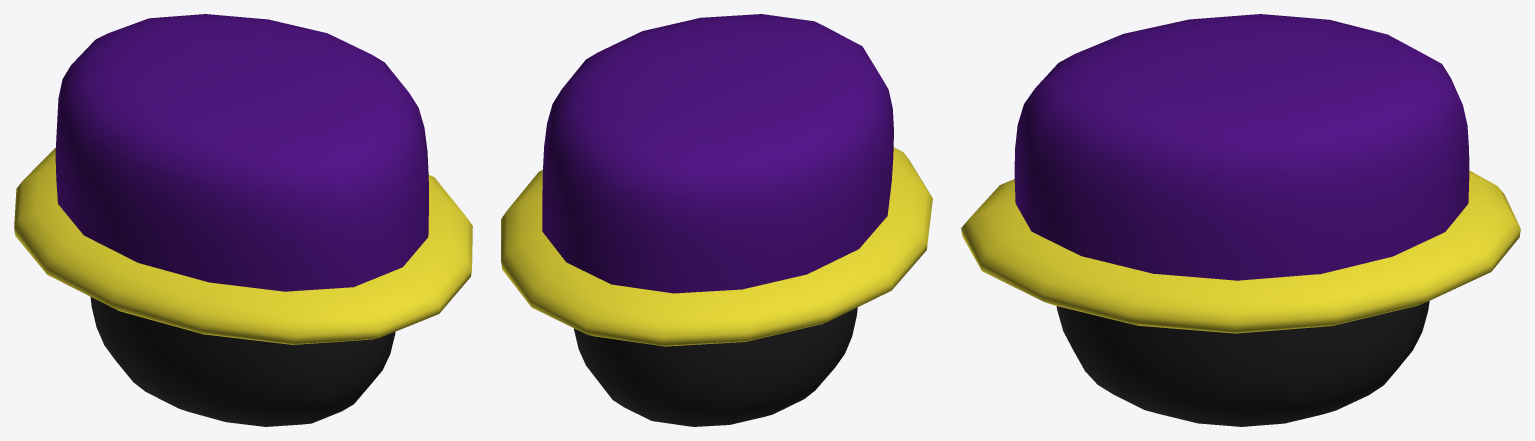
The model's file is witch_hand.obj.
3 views of the same model, side by side, from view 1: azimuth 30°, elevation 25°; view 2: azimuth 150°, elevation 25°; view 3: azimuth 270°, elevation 25° (orthographic). The views are drawn at different scales.
Visible parts, largest first — view 1: witch_hand; view 2: witch_hand; view 3: witch_hand.
Boxes of the visible parts, left/top/right/bottom form: witch_hand: left=14, top=14, right=472, bottom=426; witch_hand: left=501, top=14, right=932, bottom=426; witch_hand: left=961, top=14, right=1520, bottom=426.
Bounding box in the file's own units: 0.2103 × 0.1729 × 0.2608.
Materials: 1 (1 with a texture image).
